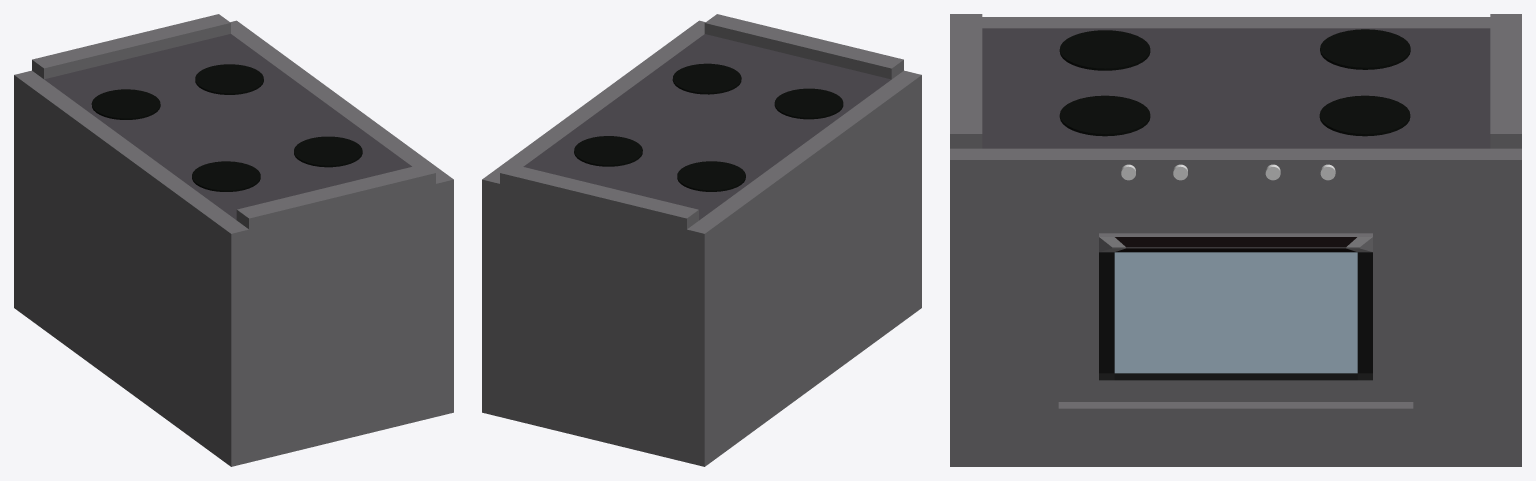
File: oven.fbx
The picture shows the model from 3 angles, left to right: view 1: azimuth 30°, elevation 25°; view 2: azimuth 150°, elevation 25°; view 3: azimuth 270°, elevation 25°; orthographic projection. The views are drawn at different scales.
Visible parts, largest first — view 1: Cube, Cylinder.004, Cylinder.005, Cylinder.006, Cylinder.007; view 2: Cube, Cylinder.006, Cylinder.004, Cylinder.005, Cylinder.007; view 3: Cube, Cylinder.006, Cylinder.004, Cylinder.005, Cylinder.007.
Boxes of the visible parts, left/top/right/bottom form: Cube: left=14, top=14, right=453, bottom=466; Cylinder.004: left=294, top=136, right=362, bottom=167; Cylinder.005: left=195, top=64, right=263, bottom=94; Cylinder.006: left=192, top=161, right=260, bottom=191; Cylinder.007: left=91, top=89, right=160, bottom=119; Cube: left=482, top=14, right=921, bottom=466; Cylinder.006: left=774, top=88, right=843, bottom=119; Cylinder.004: left=672, top=63, right=741, bottom=94; Cylinder.005: left=574, top=136, right=642, bottom=166; Cylinder.007: left=677, top=161, right=745, bottom=191; Cube: left=950, top=14, right=1521, bottom=466; Cylinder.006: left=1059, top=30, right=1150, bottom=70; Cylinder.004: left=1059, top=95, right=1150, bottom=136; Cylinder.005: left=1319, top=95, right=1410, bottom=136; Cylinder.007: left=1320, top=29, right=1410, bottom=69.
Bounding box in the file's own units: 489 × 504 × 812.
